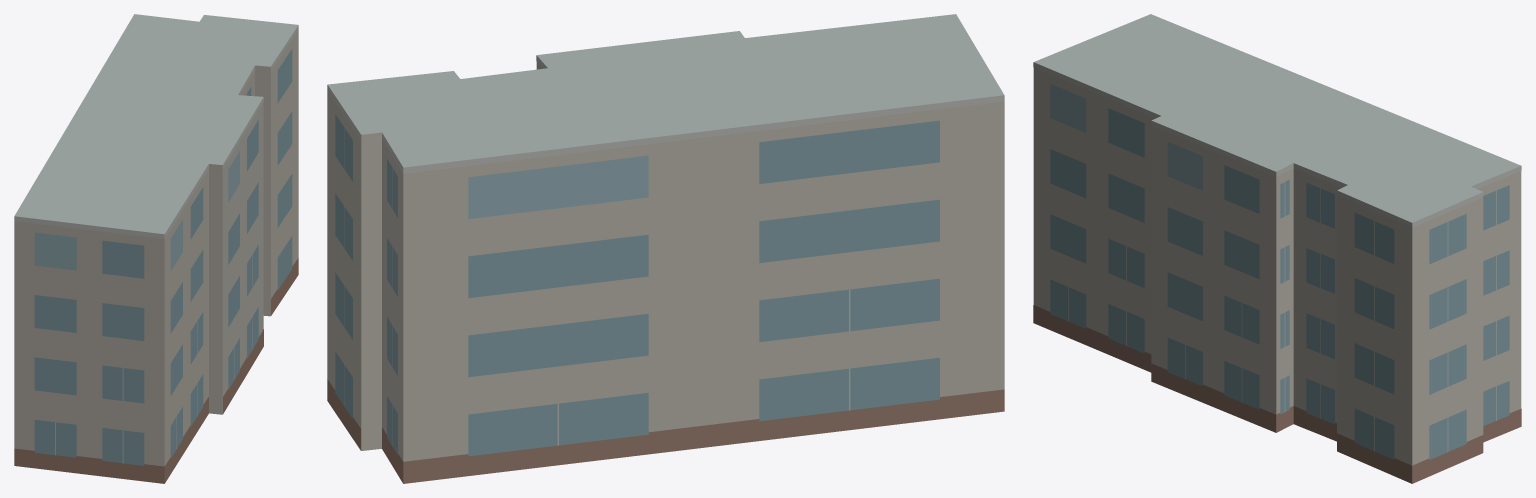
Rendered from survey-upis-32655157.glb.
3 renders of one model, left to right at view 1: azimuth 30°, elevation 25°; view 2: azimuth 150°, elevation 25°; view 3: azimuth 270°, elevation 25°, orthographic. The views are drawn at different scales.
Parts seen in each view (by area): view 1: survey-upis-32655157.tmp; view 2: survey-upis-32655157.tmp; view 3: survey-upis-32655157.tmp.
Part boxes in pixels (x1,y1,x2,y2): survey-upis-32655157.tmp: (14,14,298,483); survey-upis-32655157.tmp: (327,14,1004,483); survey-upis-32655157.tmp: (1033,14,1521,483).
Bounding box in the file's own units: 21.46 × 12.5 × 21.18.
